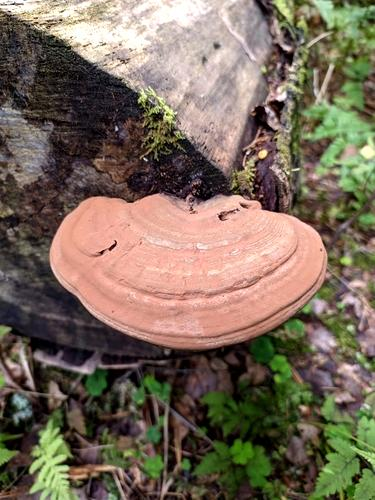Ganoderma - Fruit Body: (51, 189, 327, 349)
